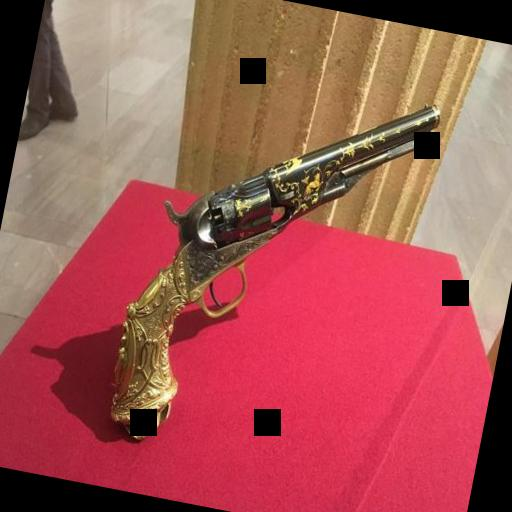Handgun: (94, 44, 444, 494)
